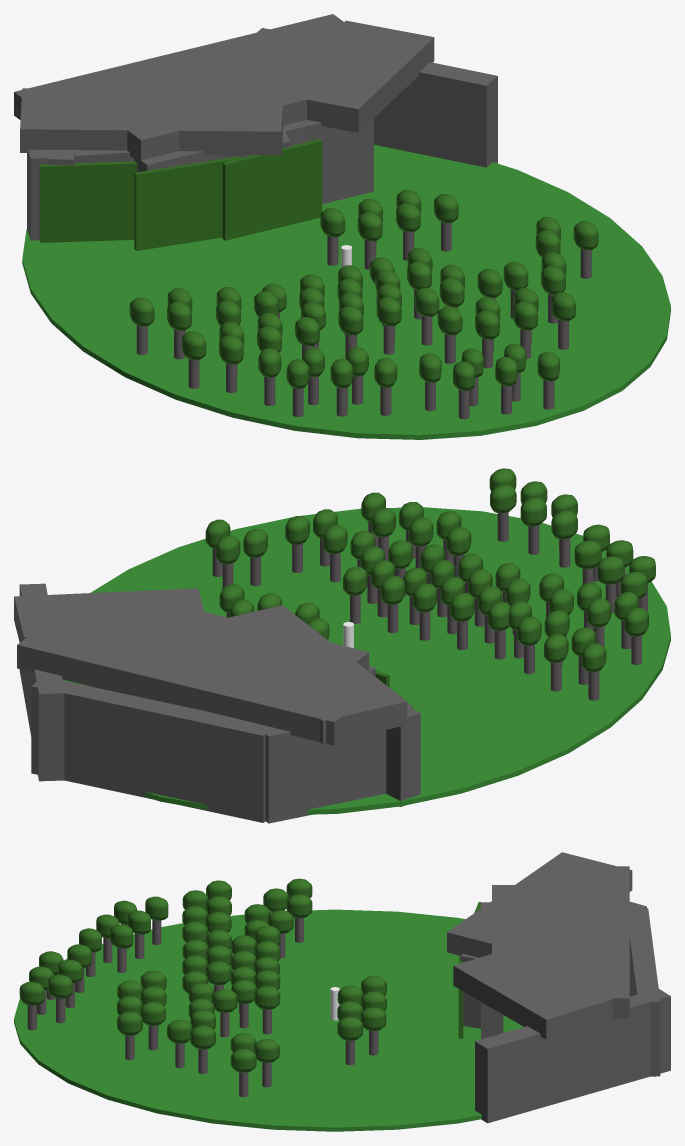
The model's file is island.glb.
3 renders of one model, top to bottom at view 1: azimuth 30°, elevation 25°; view 2: azimuth 150°, elevation 25°; view 3: azimuth 270°, elevation 25°, orthographic. The views are drawn at different scales.
Parts seen in each view (by area): view 1: Cylinder, fossil, vavite, Box_5, shop, shop2, Box_11, Box_10, Box_12, iron, Box, Box_1 (+19 smaller); view 2: Cylinder, Box_8, shop, fossil, iron, Box_9, vavite, shop2, Box_5, Box_1, Capsule_52, Capsule_48 (+24 smaller); view 3: Cylinder, Box_5, fossil, shop2, vavite, shop, Box_8, iron, Box, Box_1, Capsule_4, Capsule_8 (+23 smaller).
Part boxes in pixels (box(x1,y1,x2,y2)): Cylinder: box(22, 144, 670, 439); fossil: box(20, 88, 282, 155); vavite: box(93, 49, 367, 160); Box_5: box(257, 28, 497, 167); shop: box(107, 14, 380, 103); shop2: box(275, 20, 434, 132); Box_11: box(222, 139, 322, 240); Box_10: box(39, 161, 137, 242); Box_12: box(134, 156, 240, 250); iron: box(14, 37, 282, 119); Box: box(134, 118, 373, 203); Box_1: box(27, 131, 289, 240); Cylinder: box(62, 507, 670, 814); Box_8: box(31, 676, 272, 822); shop: box(17, 615, 288, 719); fossil: box(198, 605, 407, 744); iron: box(109, 632, 379, 745); Box_9: box(258, 702, 412, 823); vavite: box(96, 597, 369, 686); shop2: box(14, 588, 204, 642); Box_5: box(19, 583, 64, 781); Box_1: box(386, 706, 420, 806); Capsule_52: box(597, 556, 624, 584); Capsule_48: box(574, 540, 601, 569); Cylinder: box(14, 909, 523, 1131); Box_5: box(475, 988, 670, 1123); fossil: box(447, 852, 632, 957); shop2: box(453, 947, 612, 1039); vavite: box(492, 885, 574, 978); shop: box(547, 904, 629, 1018); Box_8: box(629, 908, 660, 1076); iron: box(548, 866, 629, 959); Box: box(481, 902, 503, 1039); Box_1: box(460, 953, 480, 1028); Capsule_4: box(254, 985, 280, 1009); Capsule_8: box(230, 1048, 256, 1072).
Size of the model in its own units: 111 by 21.79 by 142.
